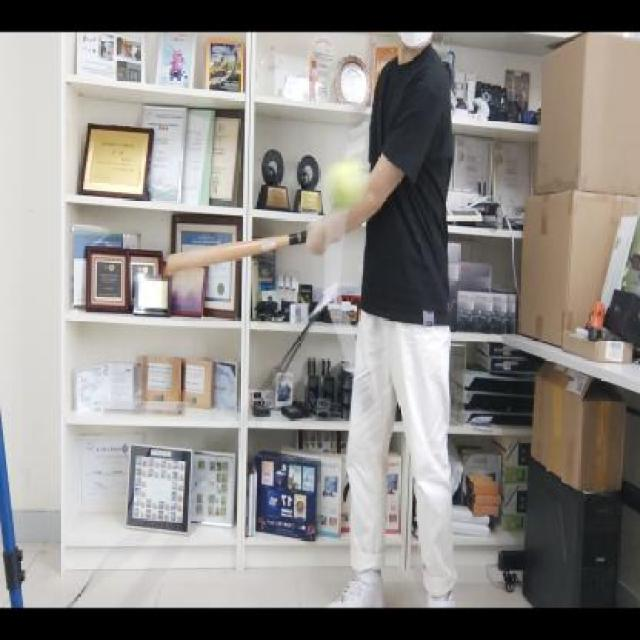baseball: (326, 158, 365, 212)
